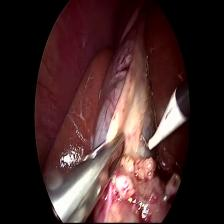Grasper: (46, 123, 132, 223)
Hook: (139, 93, 183, 154)
